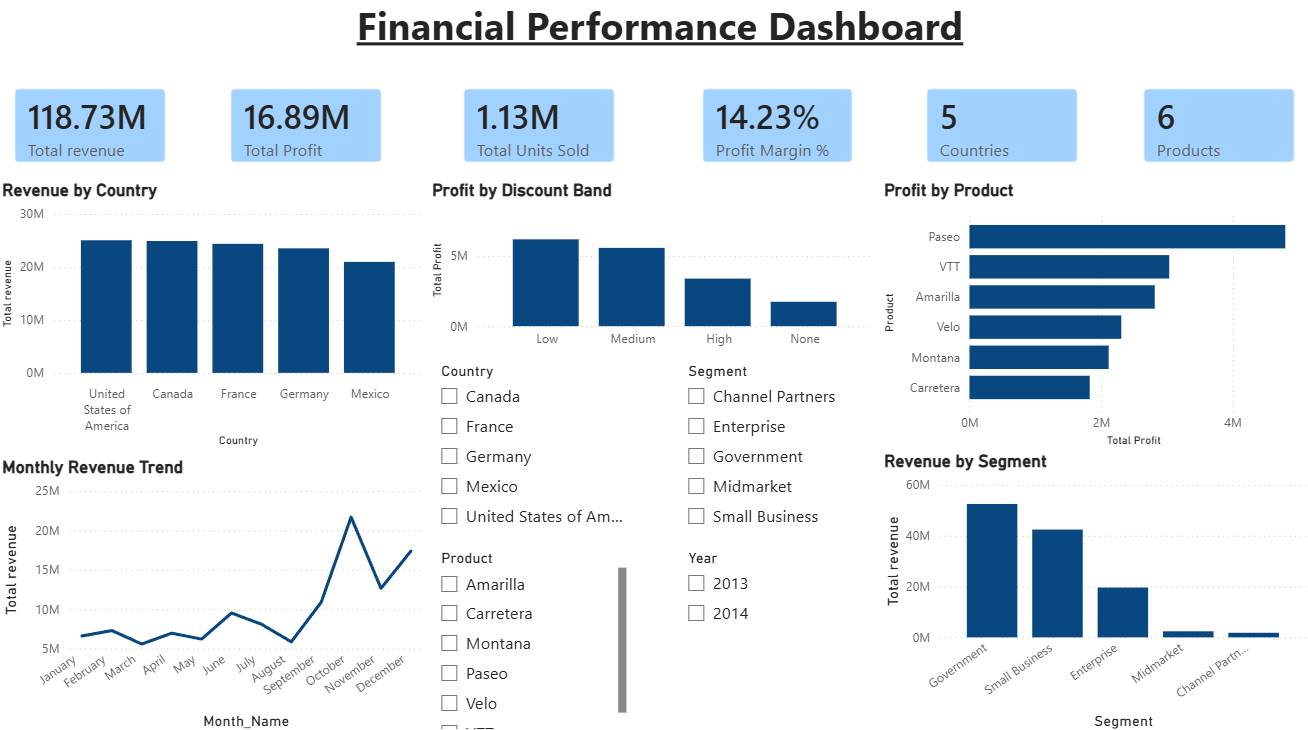

What the dashboard file says about the page in this screenshot:
{"tool":"powerbi","page":{"name":"Page 1","canvas":[1280,720],"ordinal":0},"visuals":[{"type":"textbox","box":[9.7,0,1270.3,74.9],"z":0},{"type":"cardVisual","fields":{"Data":["Table1.Total revenue"]},"box":[0,74.9,181.9,106],"z":1000},{"type":"cardVisual","fields":{"Data":["Table1.Total Profit"]},"box":[210.1,74.9,181.9,106],"z":2000},{"type":"cardVisual","fields":{"Data":["Table1.Total Units Sold"]},"box":[436.7,74.9,181.9,106],"z":3000},{"type":"cardVisual","fields":{"Data":["Table1.Countries"]},"box":[887.1,74.9,181.9,106],"z":4000},{"type":"cardVisual","fields":{"Data":["Table1.Products"]},"box":[1098.1,74.9,181.9,106],"z":5000},{"type":"columnChart","title":"Revenue by Country","fields":{"Category":["Table1.Country"],"Y":["Table1.Total revenue"]},"box":[0,180.9,419.2,263.6],"z":6000},{"type":"clusteredBarChart","title":"Profit by  Product ","fields":{"Category":["Table1. Product "],"Y":["Table1.Total Profit"]},"box":[857.9,180.9,422.1,263.6],"z":7000},{"type":"columnChart","title":"Revenue by Segment","fields":{"Category":["Table1.Segment"],"Y":["Table1.Total revenue"]},"box":[857.9,444.5,421.2,275.3],"z":8000},{"type":"lineChart","title":"Monthly Revenue Trend","fields":{"Y":["Table1.Total revenue"],"Category":["Table1. Month_Name "]},"box":[0,450.3,419.2,269.4],"z":9000},{"type":"columnChart","title":"Profit by  Discount Band ","fields":{"Category":["Table1. Discount_Band "],"Y":["Table1.Total Profit"]},"box":[418.2,180.9,439.6,172.2],"z":10000},{"type":"slicer","fields":{"Values":["Table1.Country"]},"box":[419.2,353.1,199.4,181.9],"z":11000},{"type":"slicer","fields":{"Values":["Table1. Product "]},"box":[419.2,535,198.4,184.8],"z":12000},{"type":"slicer","fields":{"Values":["Table1.Segment"]},"box":[659.5,353.1,199.4,181.9],"z":13000},{"type":"slicer","fields":{"Values":["Table1.Year"]},"box":[659.5,535,198.4,184.8],"z":14000},{"type":"cardVisual","fields":{"Data":["Table1.Profit Margin %"]},"box":[669.2,74.9,180.9,106],"z":14001}]}

Visuals, with their boxes in screenshot pixels (x1, y1, x2, y2), scaled from the page's 1280x720 canvas onto the 1308x730 screenshot:
textbox: x1=10, y1=0, x2=1307, y2=76
cardVisual - Table1.Total revenue: x1=0, y1=76, x2=186, y2=183
cardVisual - Table1.Total Profit: x1=215, y1=76, x2=401, y2=183
cardVisual - Table1.Total Units Sold: x1=446, y1=76, x2=632, y2=183
cardVisual - Table1.Countries: x1=907, y1=76, x2=1092, y2=183
cardVisual - Table1.Products: x1=1122, y1=76, x2=1307, y2=183
"Revenue by Country" columnChart: x1=0, y1=183, x2=428, y2=451
"Profit by  Product " clusteredBarChart: x1=877, y1=183, x2=1307, y2=451
"Revenue by Segment" columnChart: x1=877, y1=451, x2=1307, y2=729
"Monthly Revenue Trend" lineChart: x1=0, y1=457, x2=428, y2=729
"Profit by  Discount Band " columnChart: x1=427, y1=183, x2=877, y2=358
slicer - Table1.Country: x1=428, y1=358, x2=632, y2=542
slicer - Table1. Product : x1=428, y1=542, x2=631, y2=729
slicer - Table1.Segment: x1=674, y1=358, x2=878, y2=542
slicer - Table1.Year: x1=674, y1=542, x2=877, y2=729
cardVisual - Table1.Profit Margin %: x1=684, y1=76, x2=869, y2=183
